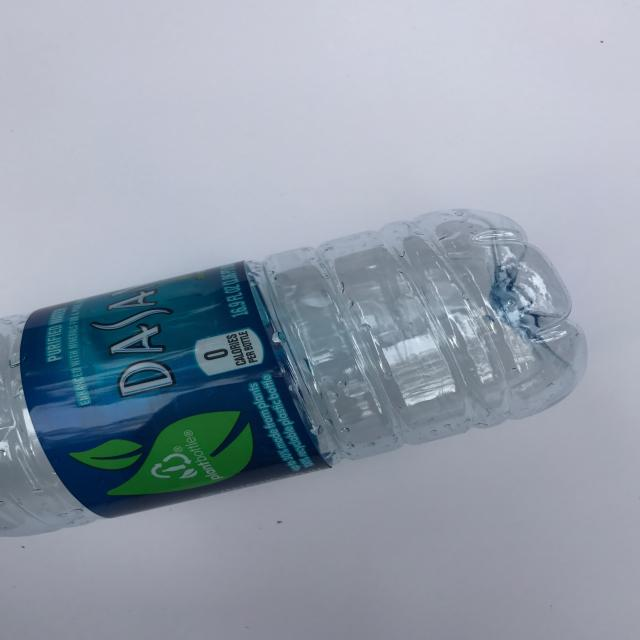plastic: (0, 207, 588, 537)
